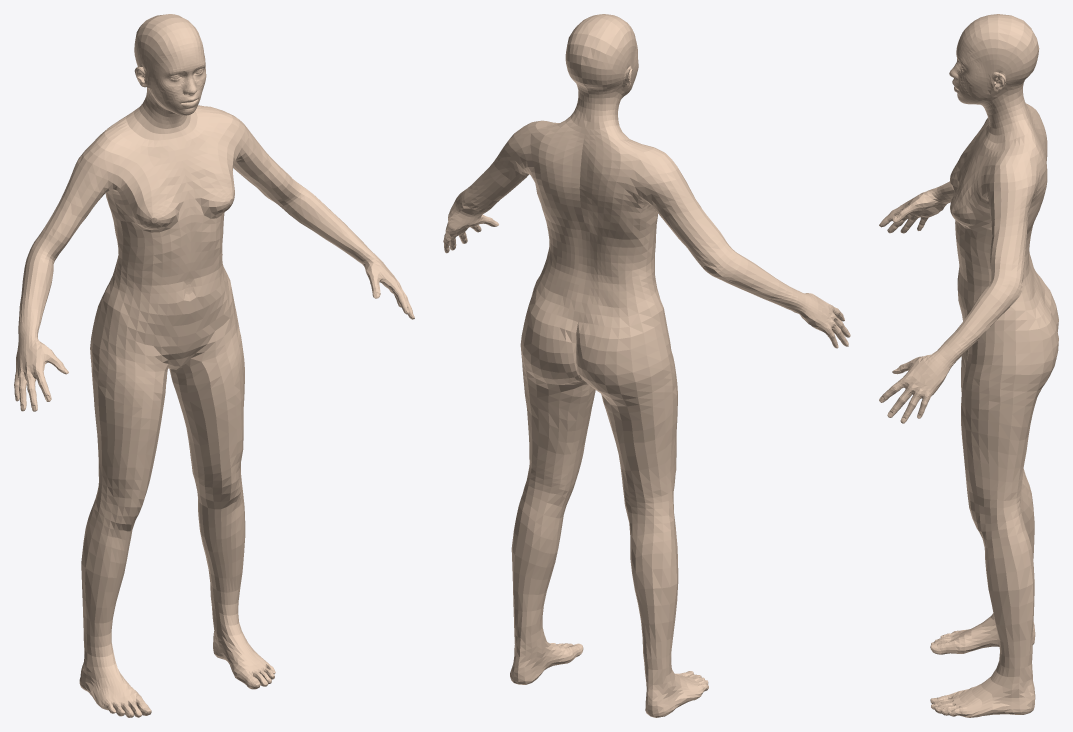
The model's file is female-young-average-toned.glb.
3 views of the same model, side by side, from view 1: azimuth 30°, elevation 25°; view 2: azimuth 150°, elevation 25°; view 3: azimuth 270°, elevation 25° (orthographic).
Parts seen in each view (by area): view 1: world; view 2: world; view 3: world.
Boxes of the visible parts, x1,y1,x2,y2 form: world: (14, 14, 414, 717); world: (443, 14, 850, 717); world: (879, 14, 1058, 717).
Bounding box in the file's own units: 1.09 × 1.76 × 0.4315.
